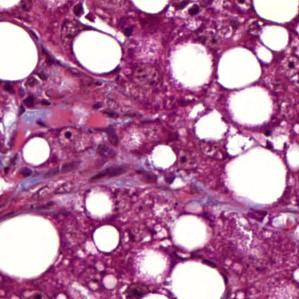steatosis: (230, 147, 289, 209), (65, 29, 124, 77), (212, 47, 264, 89)
